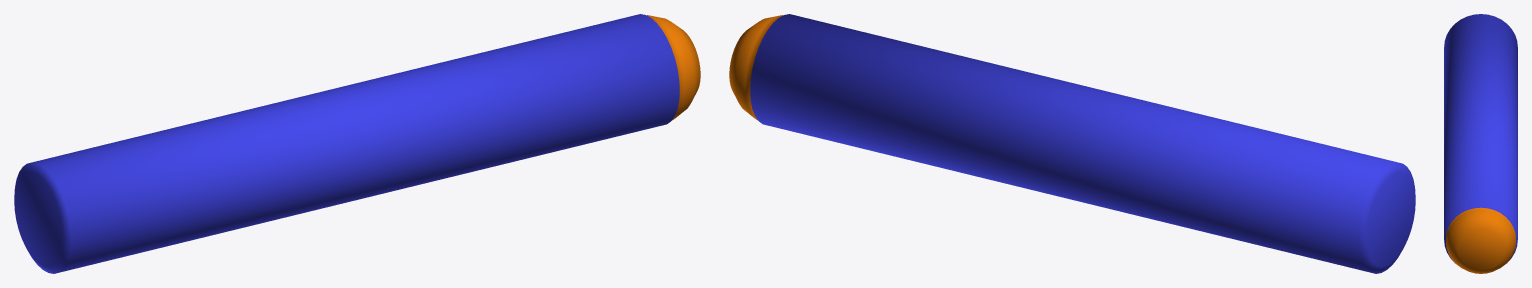
The model's file is A99 Bullet.fbx.
3 views of the same model, side by side, from view 1: azimuth 30°, elevation 25°; view 2: azimuth 150°, elevation 25°; view 3: azimuth 270°, elevation 25° (orthographic). The views are drawn at different scales.
Visible parts, largest first — view 1: Bullet; view 2: Bullet; view 3: Bullet.
Boxes of the visible parts, bbox=[...] form: Bullet: bbox=[14, 14, 700, 273]; Bullet: bbox=[729, 14, 1415, 273]; Bullet: bbox=[1444, 14, 1517, 273].
Bounding box in the file's own units: 7.29 × 1.12 × 1.12.
